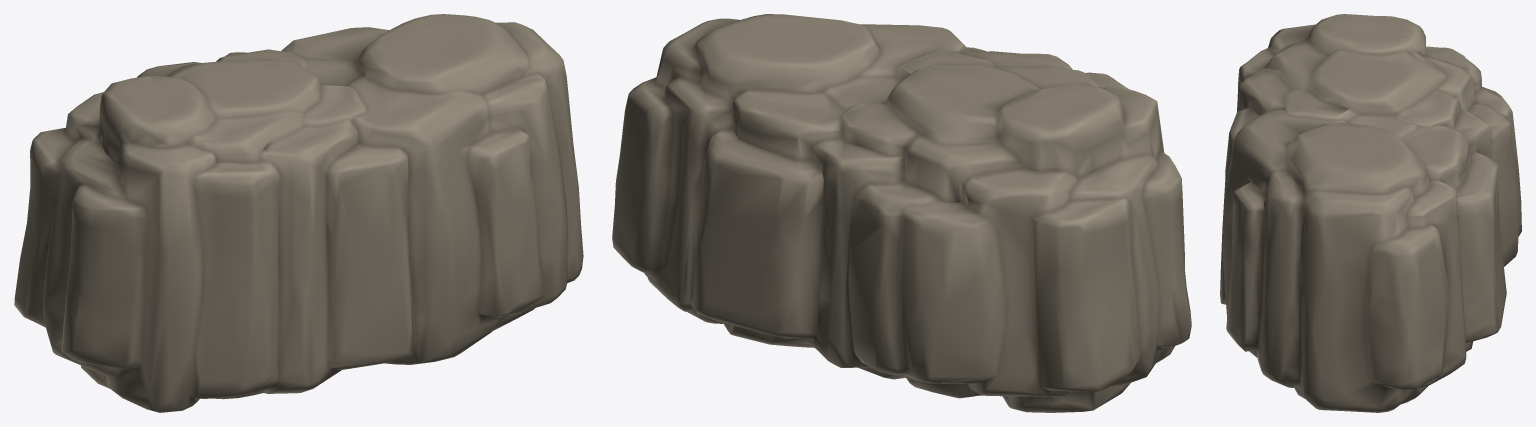
The model's file is boarderCliff1_lod.fbx.
The picture shows the model from 3 angles, left to right: view 1: azimuth 30°, elevation 25°; view 2: azimuth 150°, elevation 25°; view 3: azimuth 270°, elevation 25°; orthographic projection. The views are drawn at different scales.
Parts seen in each view (by area): view 1: cliff1_LOD0; view 2: cliff1_LOD0; view 3: cliff1_LOD0.
Part boxes in pixels (left/top/right/bottom): cliff1_LOD0: left=14, top=14, right=583, bottom=412; cliff1_LOD0: left=612, top=14, right=1191, bottom=412; cliff1_LOD0: left=1220, top=14, right=1521, bottom=412.
Size of what is drawn, in the model's own units: 1254 by 636 by 730.
1 material, 1 textured.
